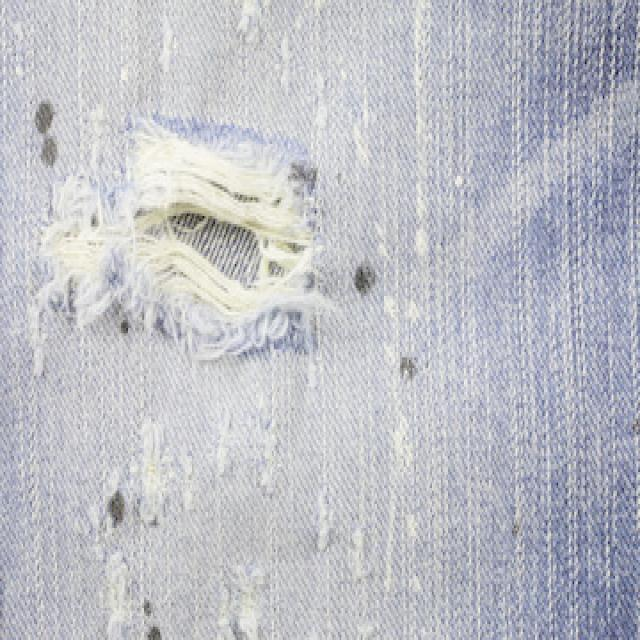other: (11, 20, 439, 522)
